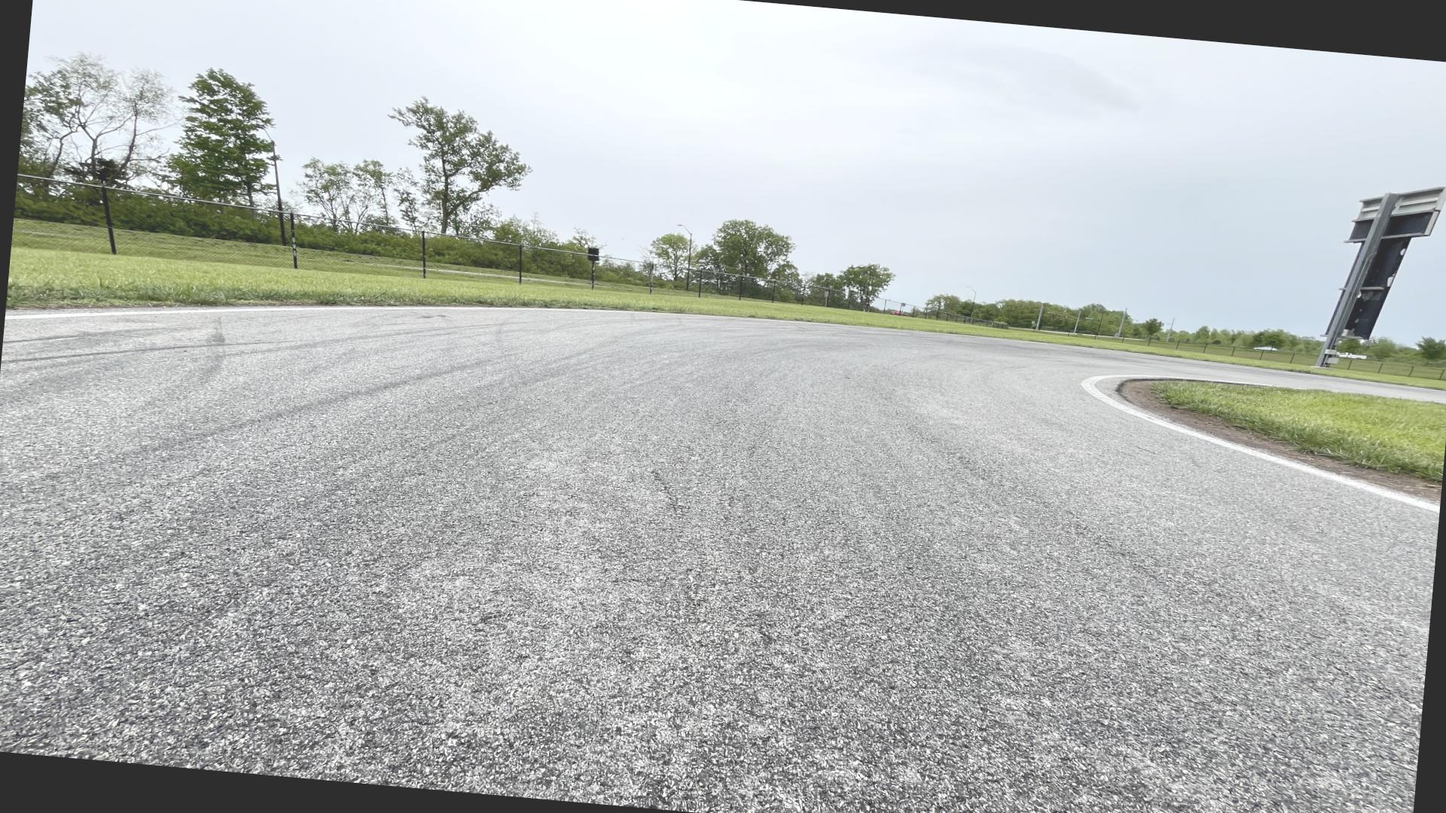white-line: (1079, 374, 1439, 516), (5, 307, 929, 333)
